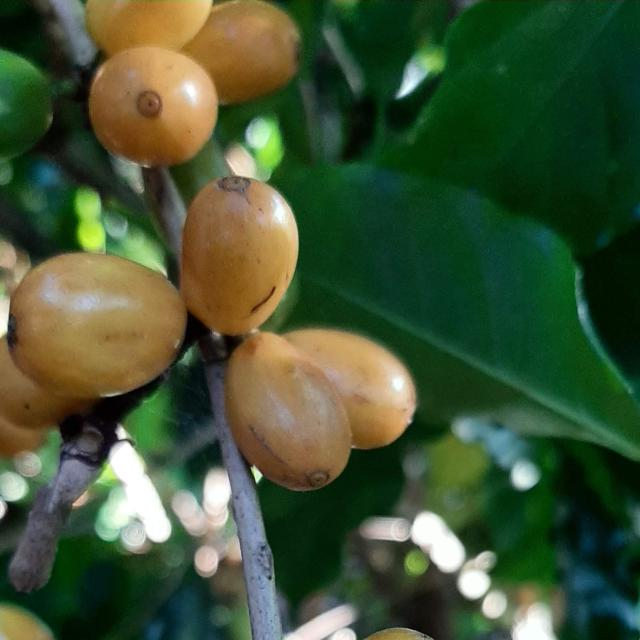green: (0, 48, 51, 157)
red: (6, 253, 186, 398), (225, 333, 352, 492), (180, 175, 299, 336), (284, 329, 417, 450), (88, 45, 218, 166), (182, 0, 300, 103), (0, 338, 96, 430), (84, 0, 212, 54)
